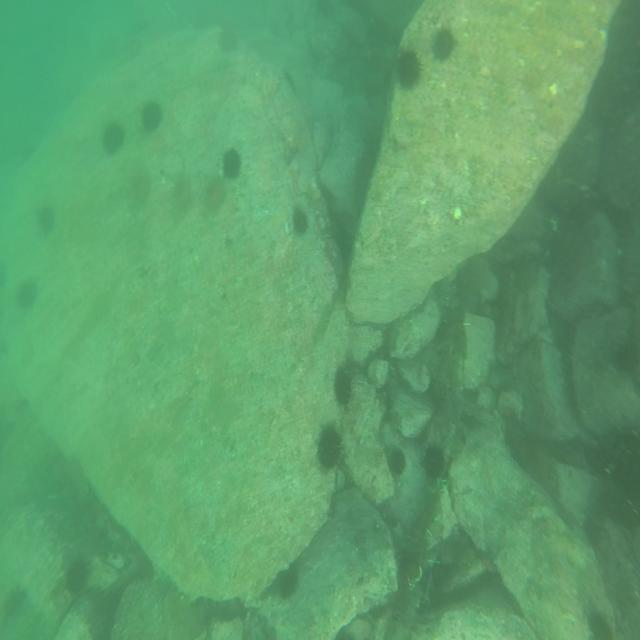echinus: (315, 427, 344, 473), (122, 173, 152, 213), (200, 173, 226, 219), (164, 174, 190, 219), (396, 49, 421, 92), (333, 368, 359, 409), (431, 23, 459, 59), (420, 444, 448, 478), (104, 121, 127, 157), (61, 562, 88, 592), (139, 102, 161, 132), (221, 148, 240, 180), (290, 202, 309, 234), (16, 274, 34, 306), (280, 570, 298, 602), (36, 202, 53, 232), (389, 451, 405, 482)
